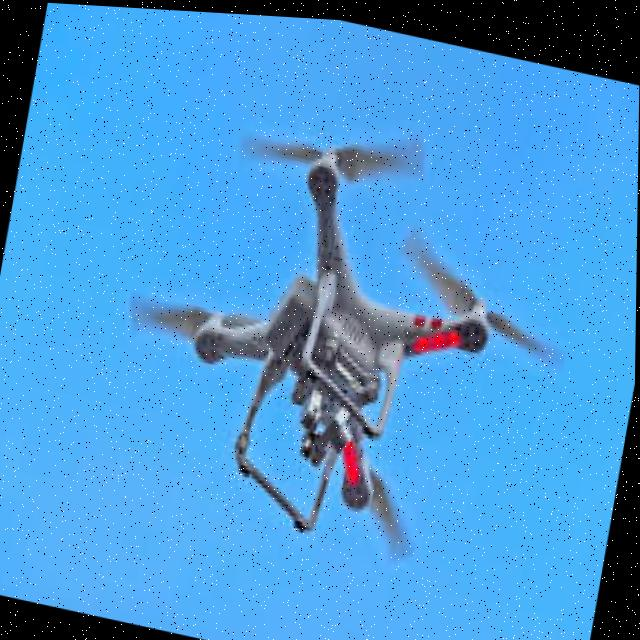drones: (25, 64, 620, 615)
